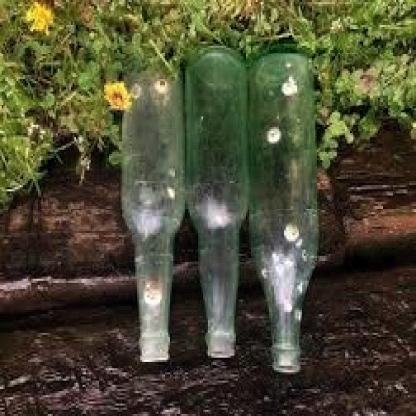gbottle: (248, 48, 317, 374), (186, 48, 251, 360), (121, 60, 188, 362)
